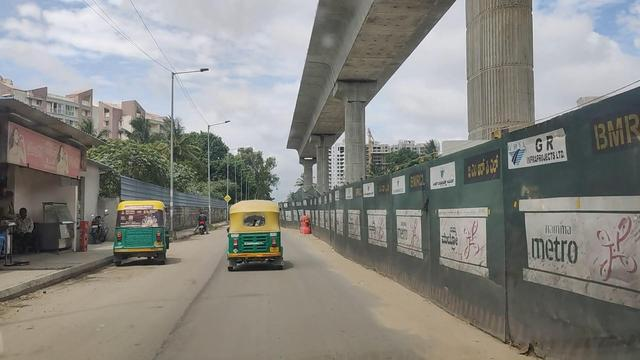LMV: (223, 198, 290, 280), (112, 194, 170, 264)
